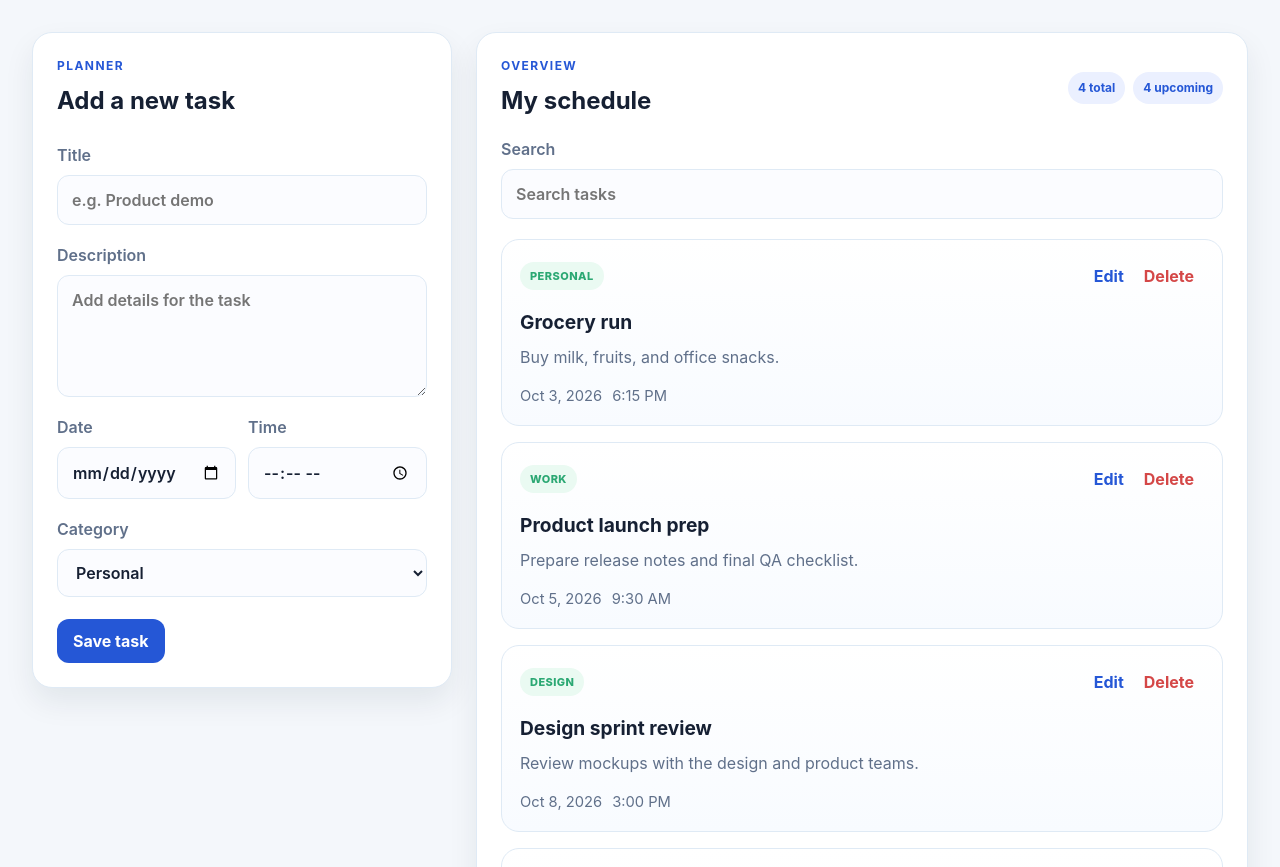
it: Planner app › edits and deletes a task
The image size is (1280, 867).
Expected: the heading "Product launch prep" is shown, x1=520 y1=513 x2=709 y2=537
Click the 1st button "Edit" at [1109, 276], box x1=1084 y1=258 x2=1134 y2=294
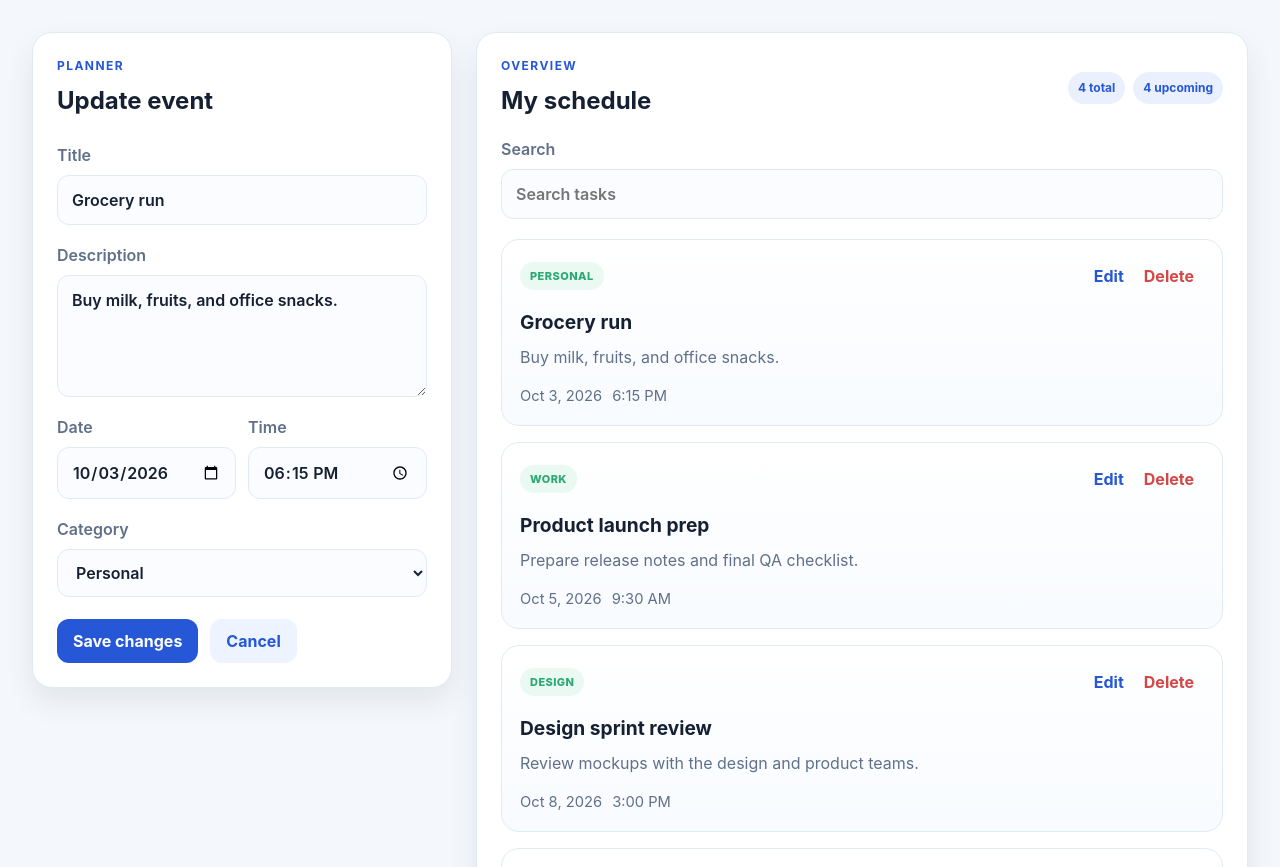
Replace the text in the field labelled "Title" with "Product launch prep updated" at [242, 200], box x1=57 y1=175 x2=427 y2=225
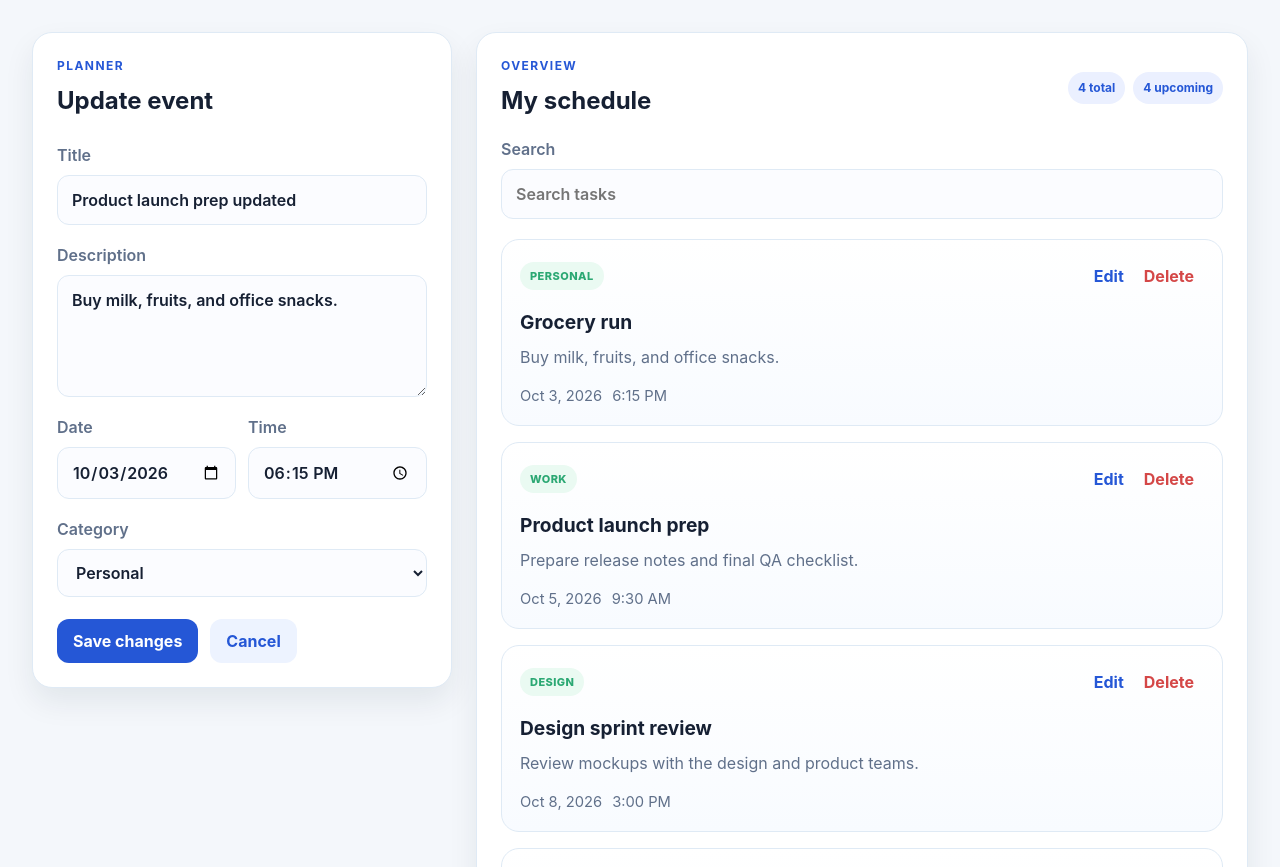
Click the button "Save changes" at [128, 641], box x1=57 y1=619 x2=198 y2=663
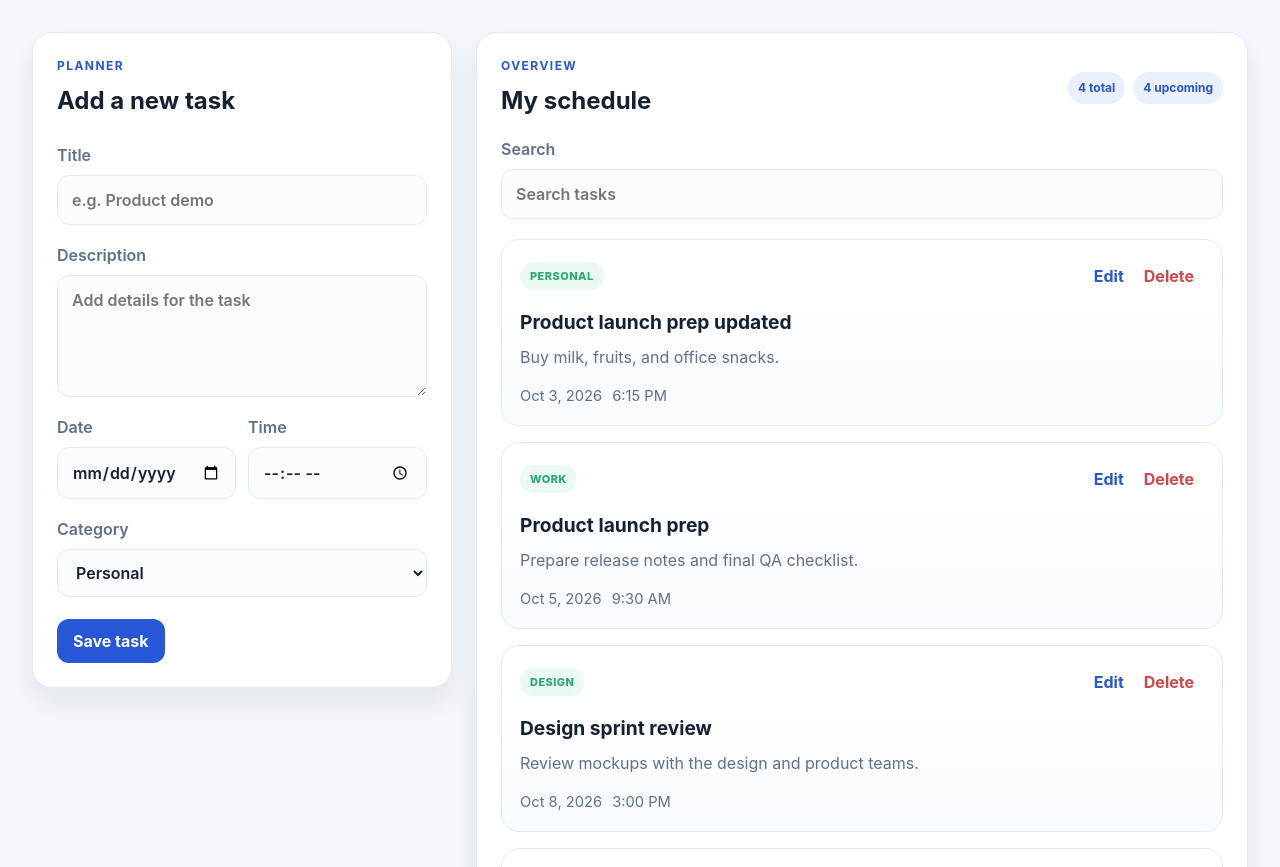
Expected: the heading "Product launch prep updated" is shown, x1=520 y1=310 x2=792 y2=334
Click the 1st button "Delete" at [1169, 276], box x1=1134 y1=258 x2=1204 y2=294
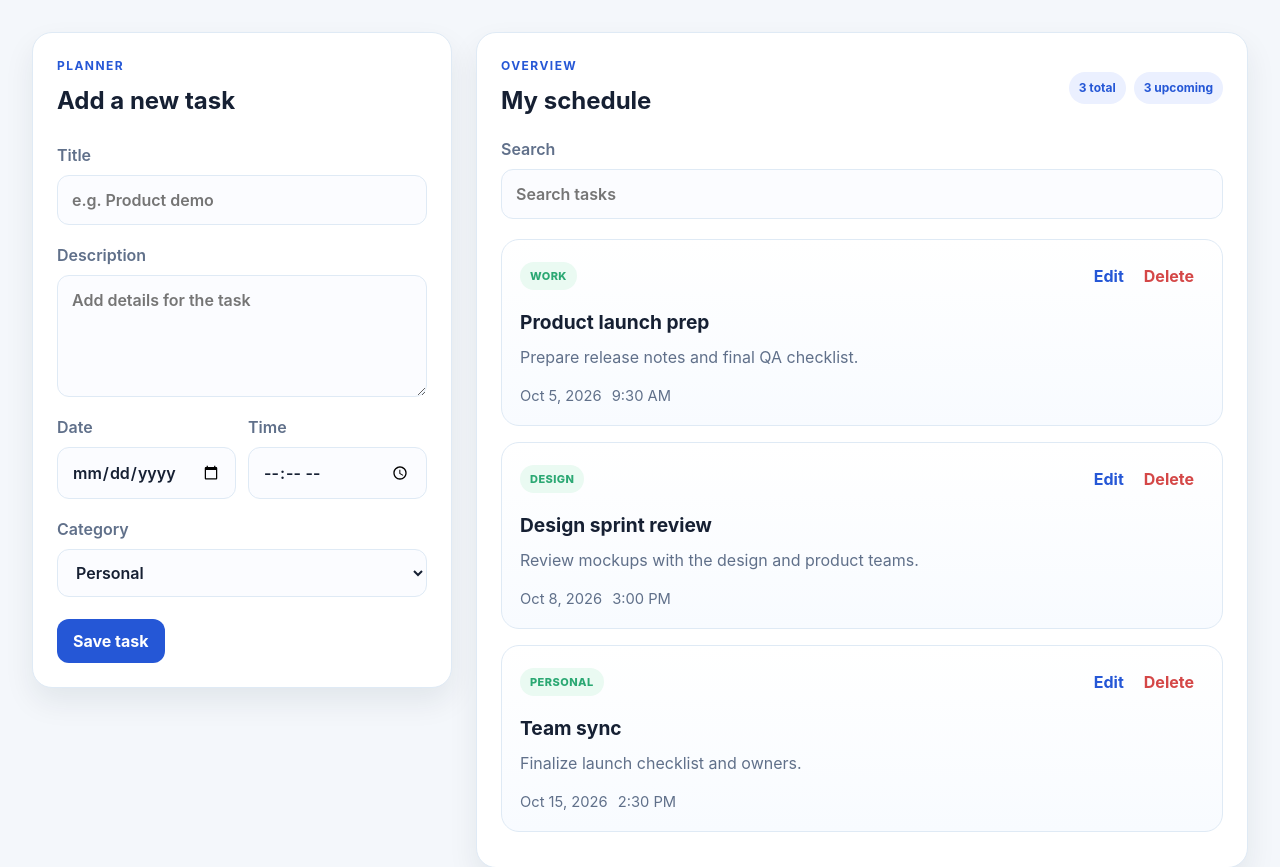
Expected: the heading "Product launch prep updated" is gone
